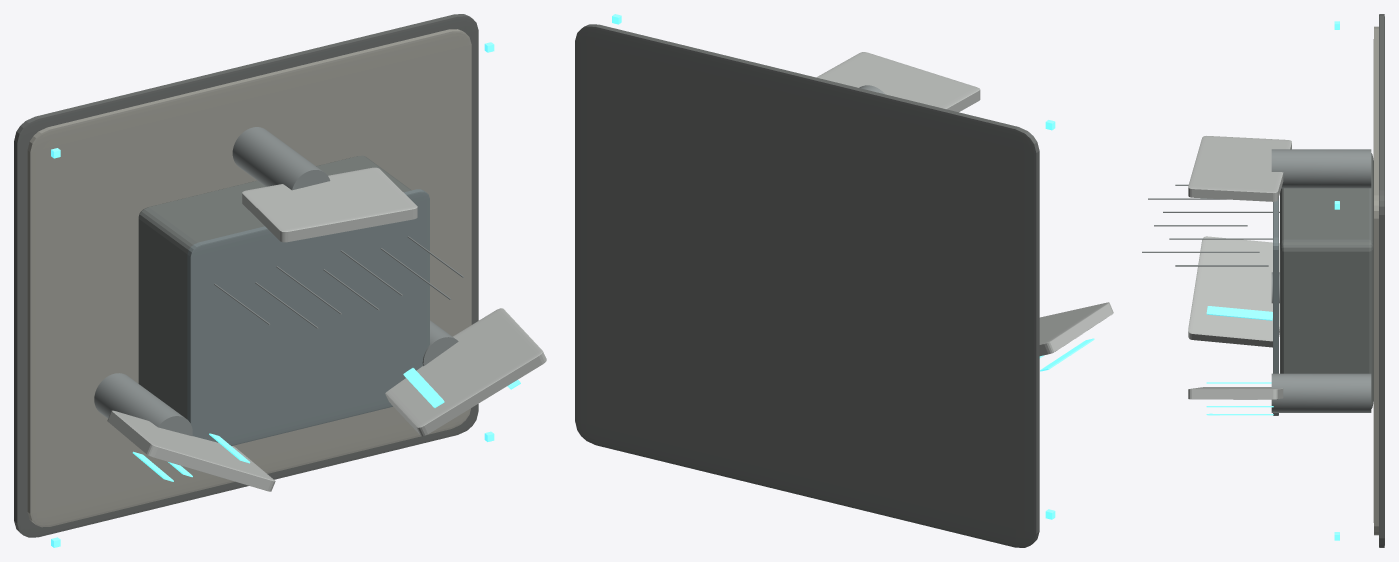
File: b-24-jammer-lod1.glb
The picture shows the model from 3 angles, left to right: view 1: azimuth 30°, elevation 25°; view 2: azimuth 150°, elevation 25°; view 3: azimuth 270°, elevation 25°; orthographic projection. The views are drawn at different scales.
Visible parts, largest first — view 1: foundation_inner_pad, jammer_core_roof, foundation, jammer_core_main_hall, primary_jammer_array_1, primary_jammer_array_2, primary_jammer_array_0, array_pedestal_2, array_pedestal_0, array_pedestal_1; view 2: foundation, primary_jammer_array_2, primary_jammer_array_0; view 3: jammer_core_main_hall, primary_jammer_array_0, primary_jammer_array_2, array_pedestal_1, array_pedestal_2, foundation, foundation_inner_pad, primary_jammer_array_1, jammer_core_roof, jammer_cell_0_2.
Part boxes in pixels (x1,y1,x2,y2): foundation_inner_pad: (27, 29, 471, 527); jammer_core_roof: (187, 189, 429, 445); foundation: (14, 14, 478, 537); jammer_core_main_hall: (138, 155, 411, 418); primary_jammer_array_1: (385, 308, 546, 436); primary_jammer_array_2: (242, 167, 417, 242); primary_jammer_array_0: (107, 410, 275, 491); array_pedestal_2: (232, 127, 330, 190); array_pedestal_0: (94, 373, 192, 436); array_pedestal_1: (422, 320, 458, 366); foundation: (575, 24, 1039, 547); primary_jammer_array_2: (816, 52, 980, 112); primary_jammer_array_0: (1039, 302, 1113, 356); jammer_core_main_hall: (1280, 153, 1373, 408); primary_jammer_array_0: (1188, 236, 1279, 347); primary_jammer_array_2: (1188, 136, 1291, 201); array_pedestal_1: (1271, 373, 1371, 412); array_pedestal_2: (1271, 149, 1371, 188); foundation: (1379, 14, 1384, 547); foundation_inner_pad: (1373, 26, 1378, 535); primary_jammer_array_1: (1188, 387, 1283, 399); jammer_core_roof: (1273, 197, 1278, 415); jammer_cell_0_2: (1206, 306, 1272, 320).
Size of what is drawn, in the model's own units: 15 by 13 by 8.05.
